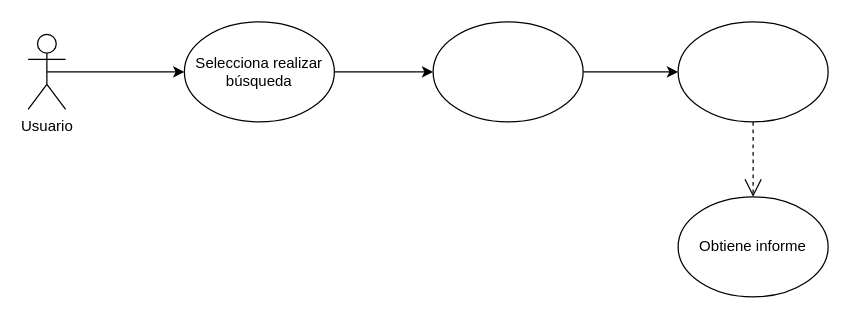
The diagram is 850 pixels wide and 319 high, and some of its shapes have lost their labels. Here are the shapes that lost their labels. From the top down, the centre of each, then its label:
At point 507,71: "Define criterios de búsqueda (filtros)".
At point 752,71: "Inicia la búsqueda".
